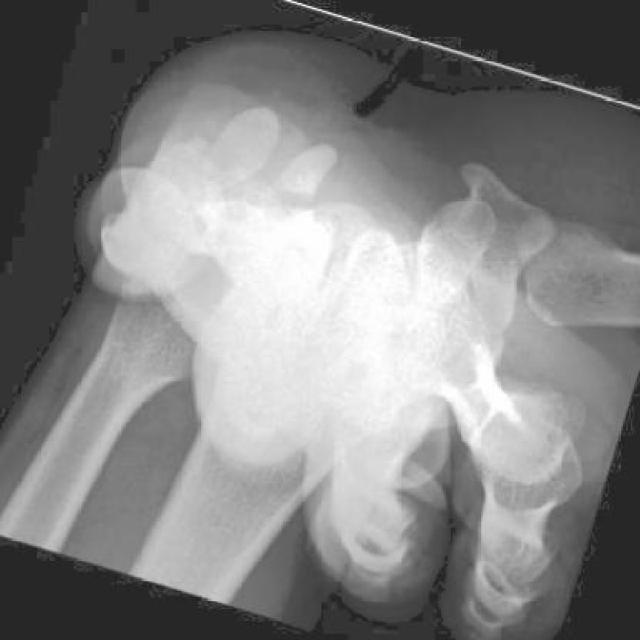Fracture: (257, 162, 340, 227)
